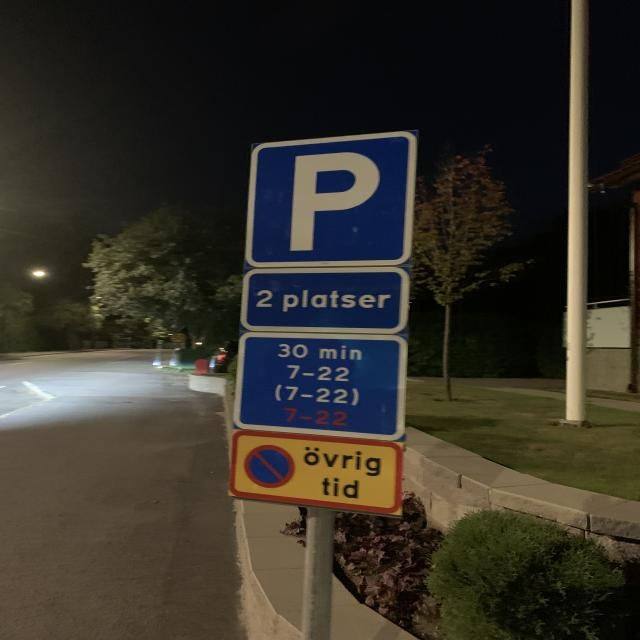P-skylt: (244, 130, 422, 272)
